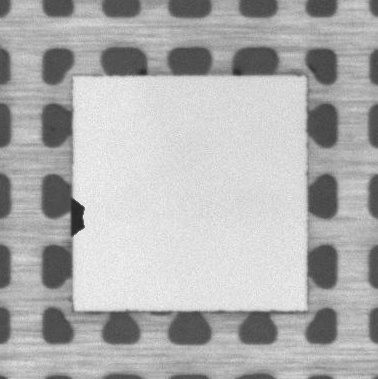DIE_BROKEN: (68, 198, 87, 239)
